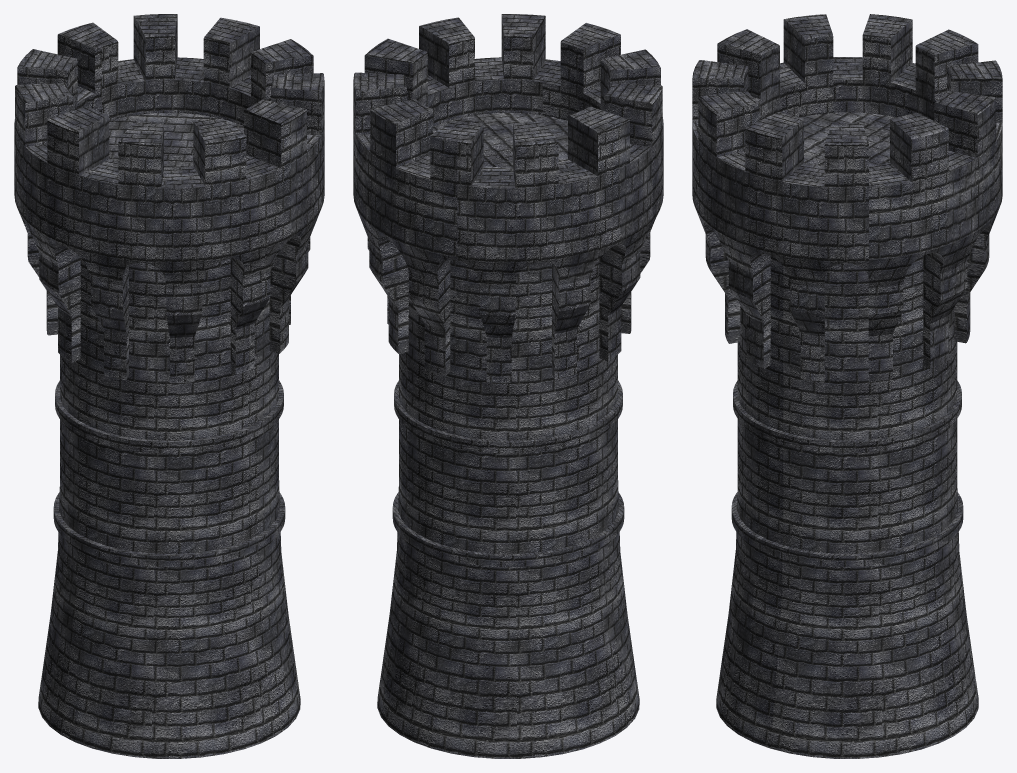
Rendered from Tower.fbx.
3 renders of one model, left to right at view 1: azimuth 30°, elevation 25°; view 2: azimuth 150°, elevation 25°; view 3: azimuth 270°, elevation 25°, orthographic.
Visible parts, largest first — view 1: Castle:polySurface1; view 2: Castle:polySurface1; view 3: Castle:polySurface1.
Part boxes in pixels (bbox=[...]): Castle:polySurface1: bbox=[14, 14, 324, 758]; Castle:polySurface1: bbox=[353, 14, 663, 758]; Castle:polySurface1: bbox=[692, 14, 1002, 758].
Bounding box in the file's own units: 13.68 × 30.46 × 13.69.
Materials: 1 (1 with a texture image).
